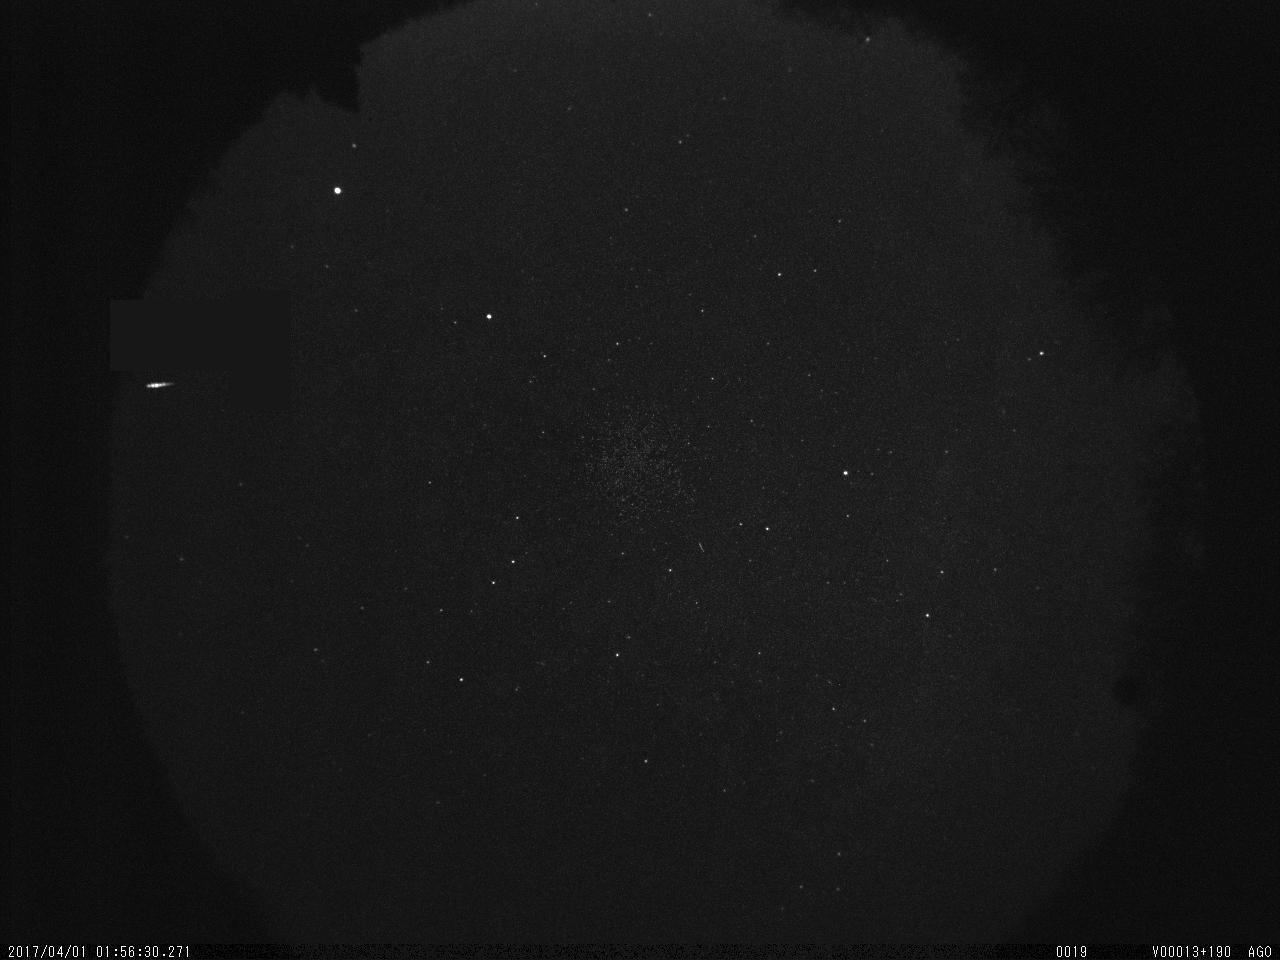Meteor: (144, 378, 176, 390)
